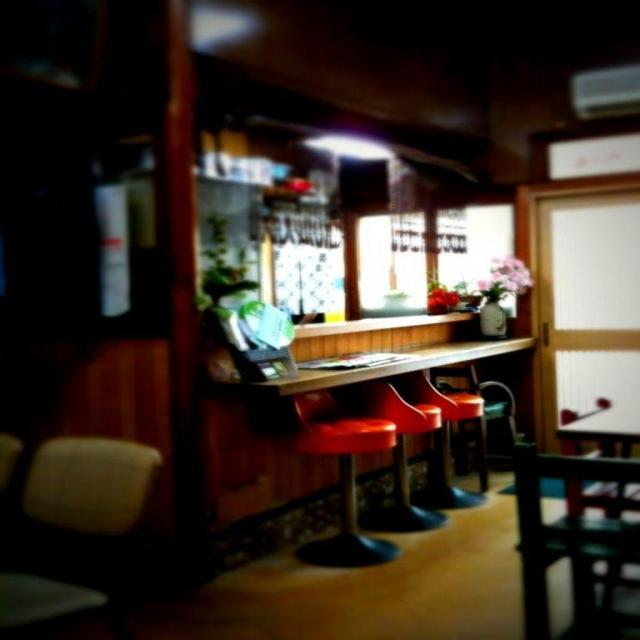table: (492, 427, 635, 615)
